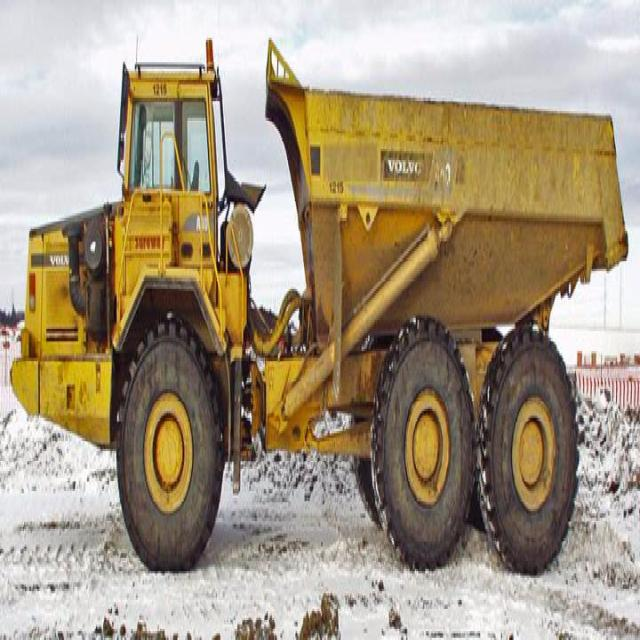dump_truck: (2, 22, 637, 622)
